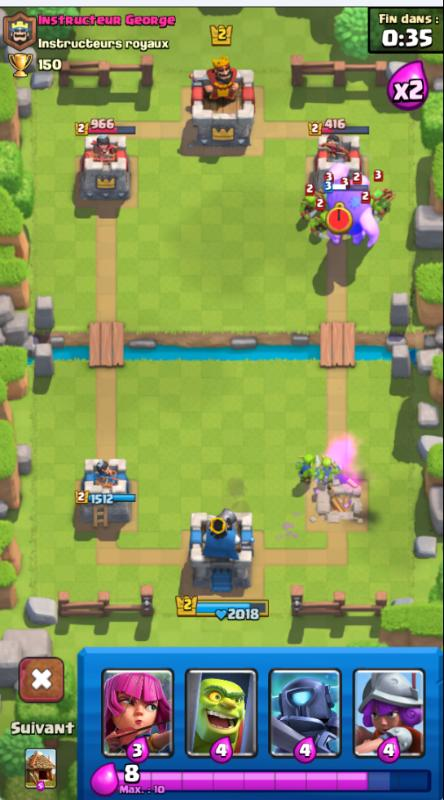geant: (325, 174, 378, 248)
gobelin: (316, 454, 339, 492), (307, 210, 333, 242), (294, 450, 315, 489), (301, 192, 320, 220)
gobelin_lances: (370, 187, 393, 219)
